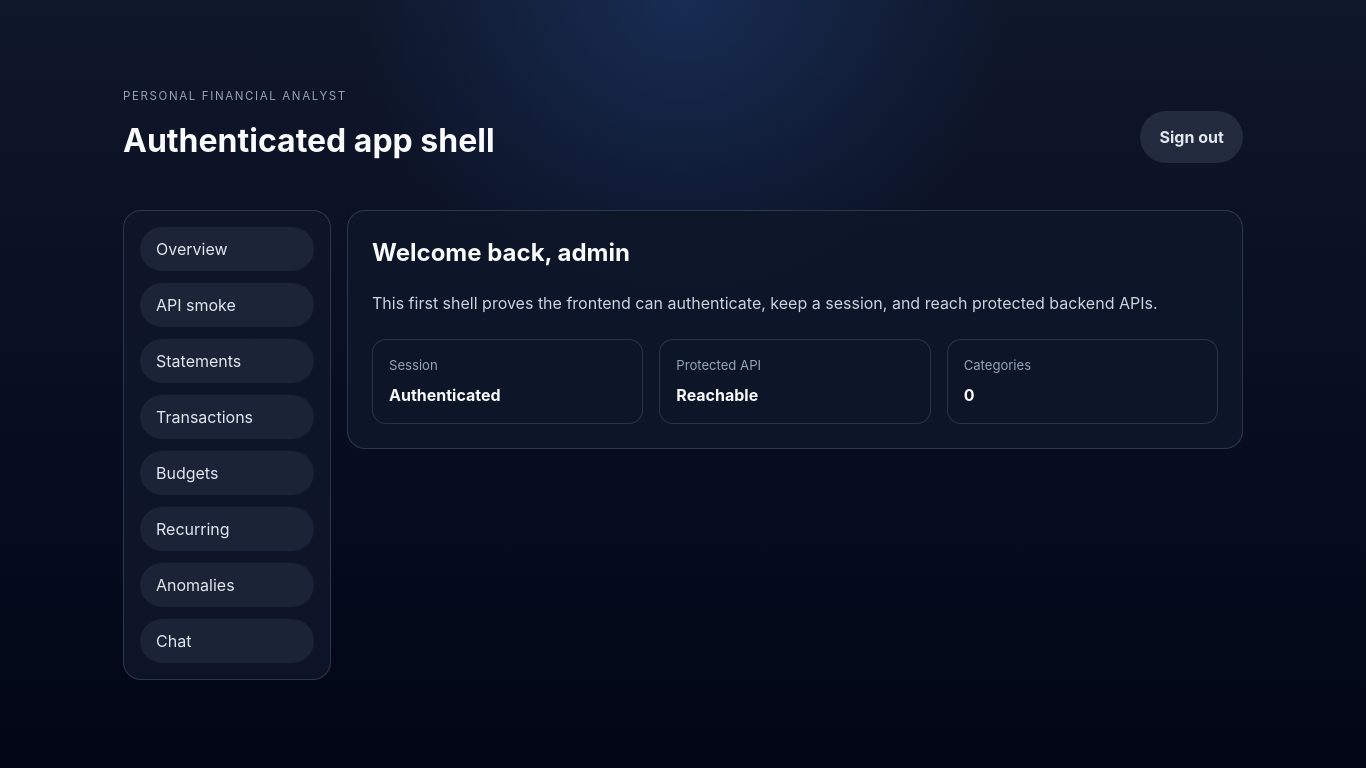
it: App › navigates to the Statements view when the Statements nav link is used
This screenshot has width=1366, height=768.
Expected: the heading "Authenticated app shell" is shown, [123, 117, 495, 165]
Click the link "Statements": (227, 361) [140, 339, 314, 383]
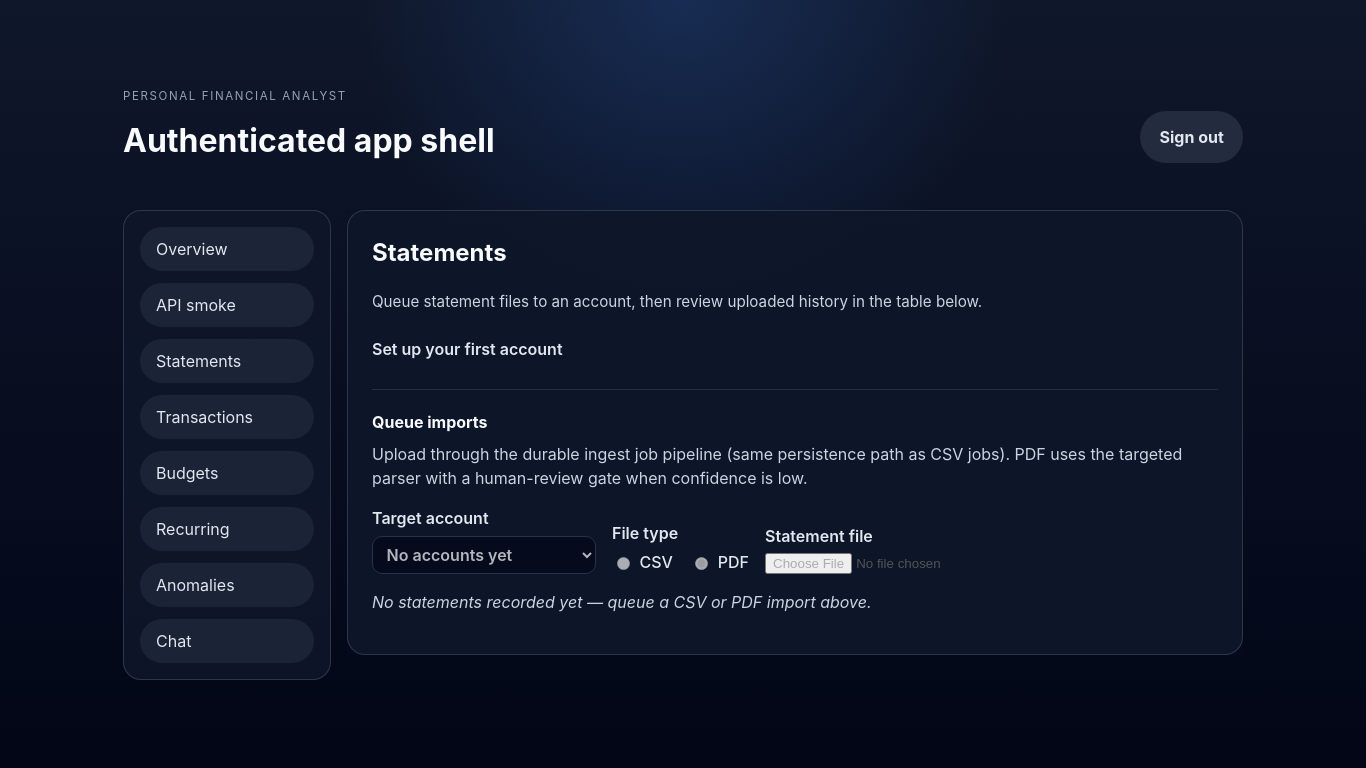
Expected: the heading "Statements" is shown, [372, 238, 507, 267]
Expected: the text "No statements recorded yet" is shown, [372, 592, 872, 612]
